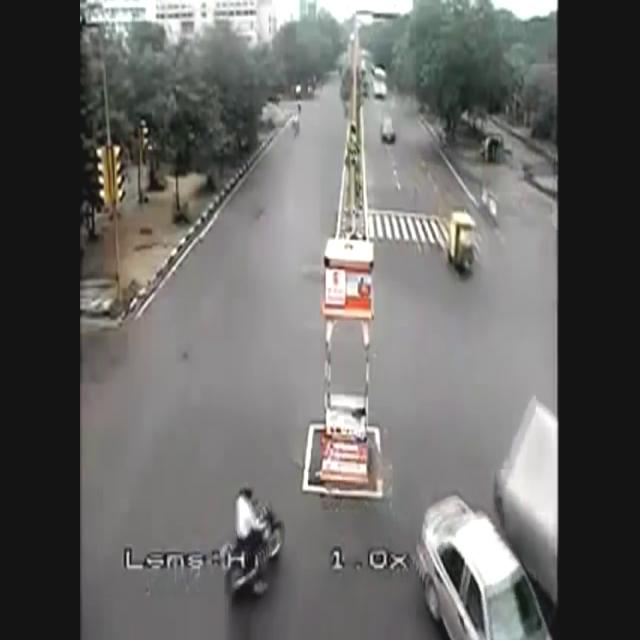accident: (412, 396, 556, 640)
non-accident: (370, 66, 398, 144)
